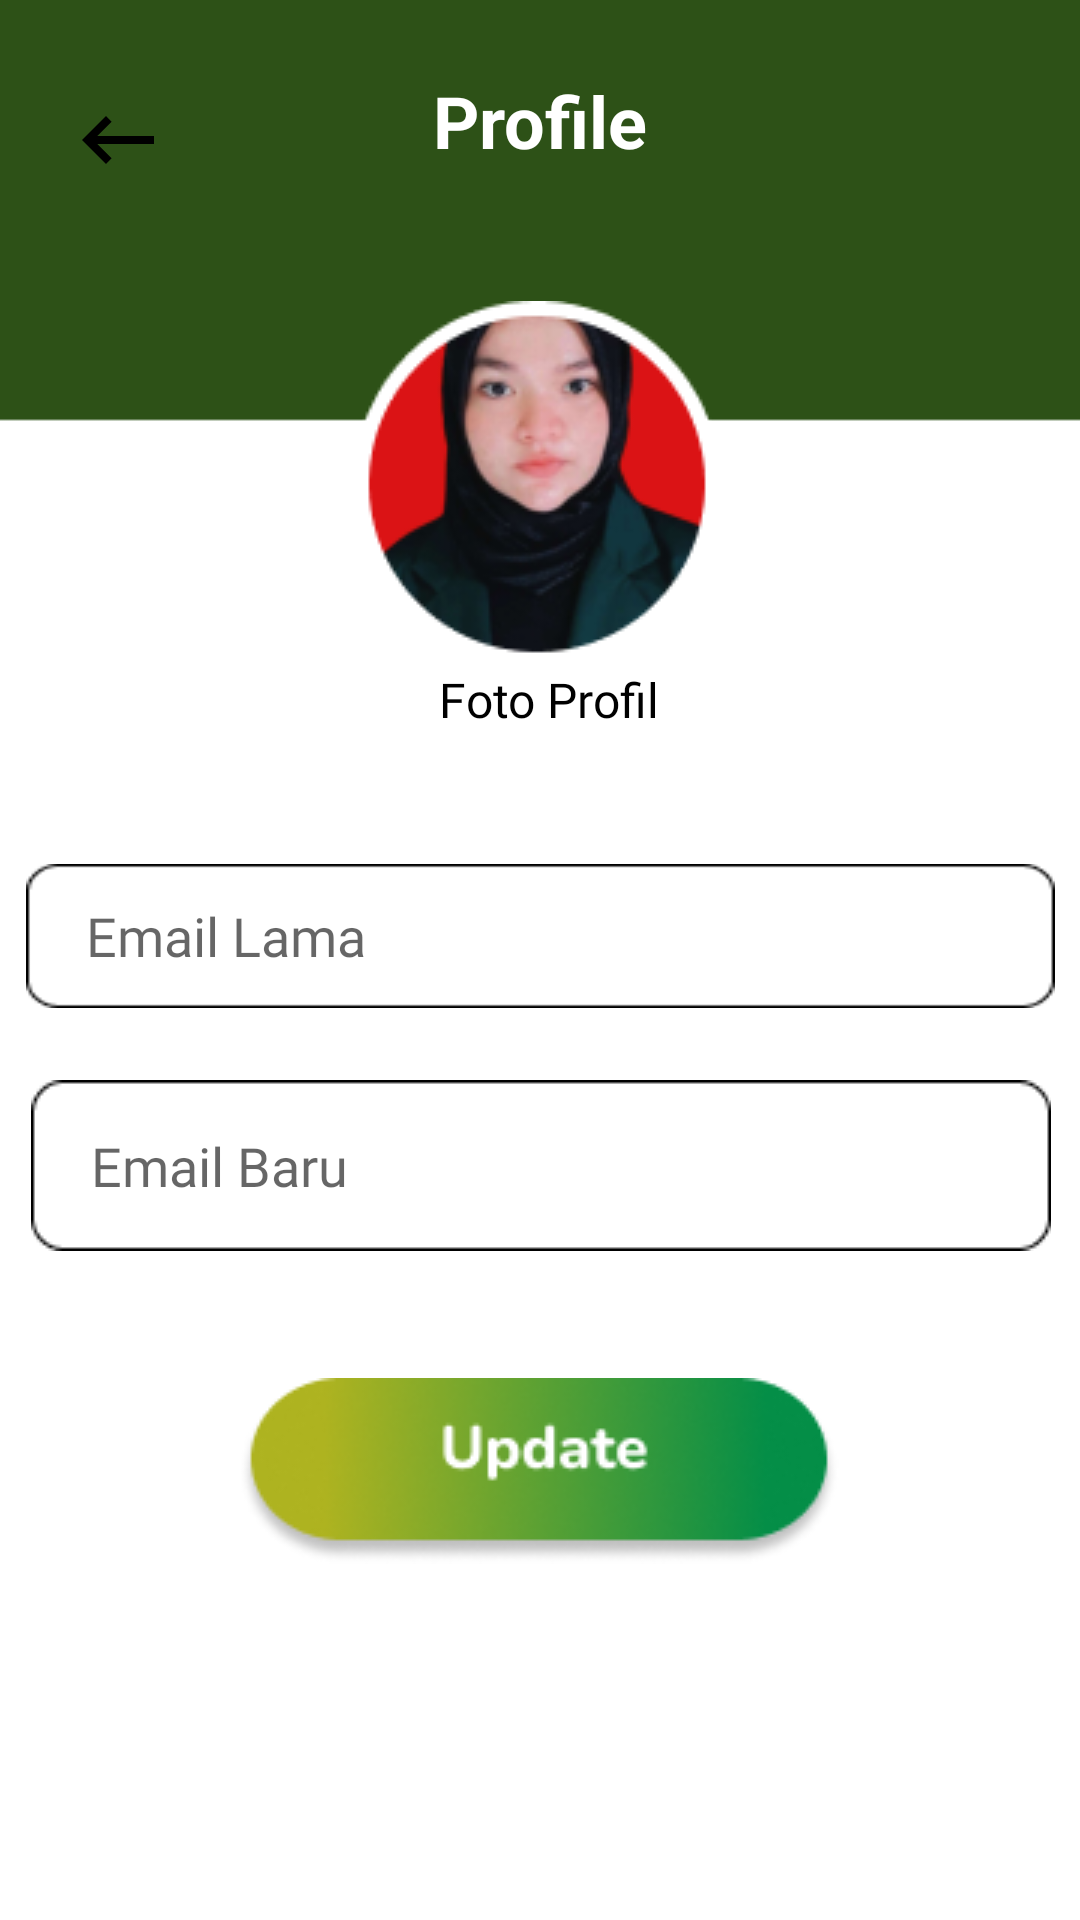

Where to tap for icons on this 1080 x 1920 app screen, as (x,y):
back: (118,140)
